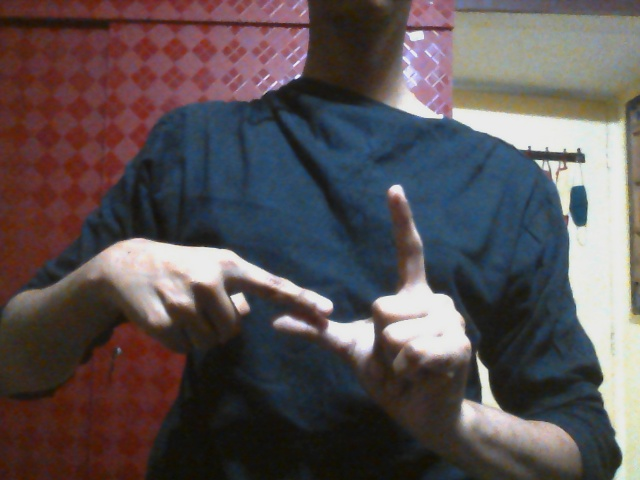J: (186, 181, 470, 404)
